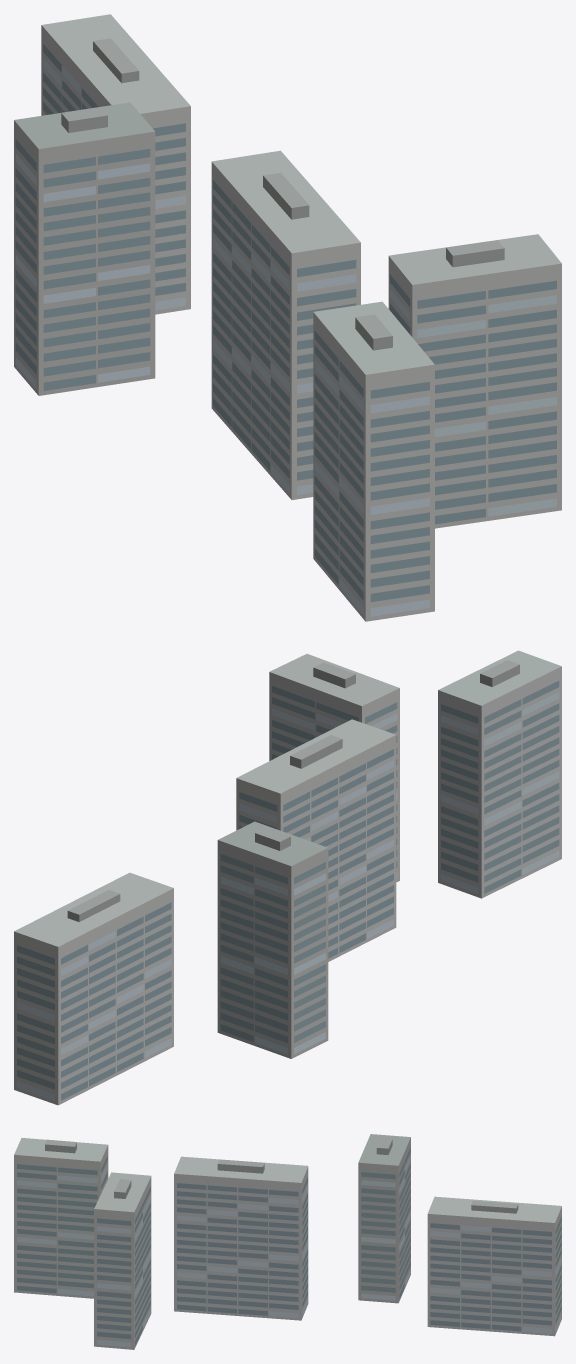
The model's file is apt-a14272303.glb.
The picture shows the model from 3 angles, top to bottom: view 1: azimuth 30°, elevation 25°; view 2: azimuth 150°, elevation 25°; view 3: azimuth 270°, elevation 25°; orthographic projection. The views are drawn at different scales.
Visible parts, largest first — view 1: apt-a14272303; view 2: apt-a14272303; view 3: apt-a14272303.
Boxes of the visible parts, x1=… form: apt-a14272303: x1=14, y1=14, x2=561, y2=621; apt-a14272303: x1=14, y1=650, x2=561, y2=1105; apt-a14272303: x1=14, y1=1134, x2=561, y2=1349.
Size of the model in its own units: 52.41 by 45 by 155.
